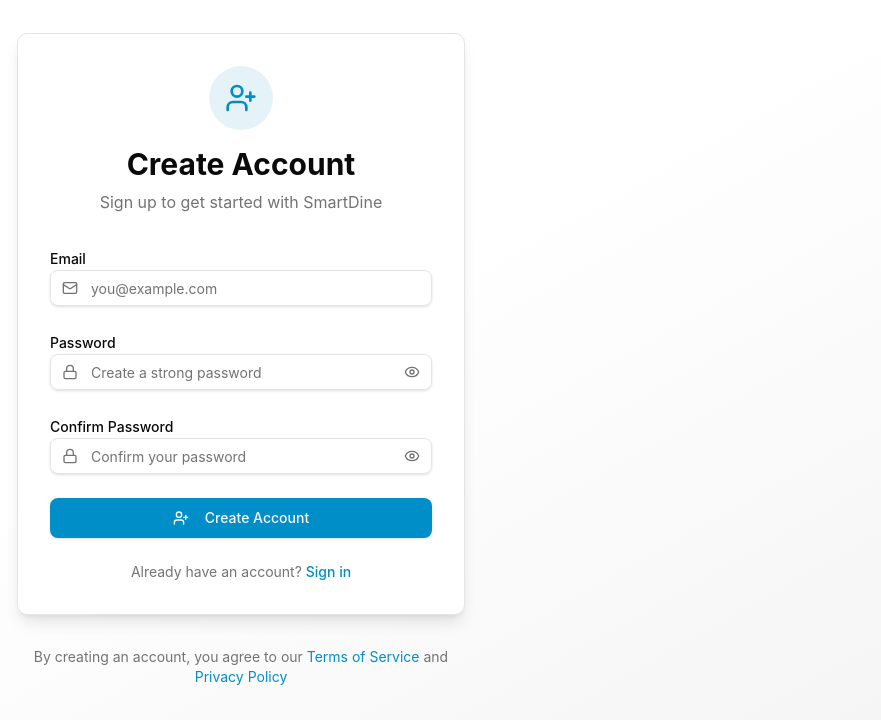
Test: Register Page Integration › should display password strength meter when typing password
Type "Test123!" into the password field with placeholder "Create a strong password" at (241, 372), box [50,354,432,390]
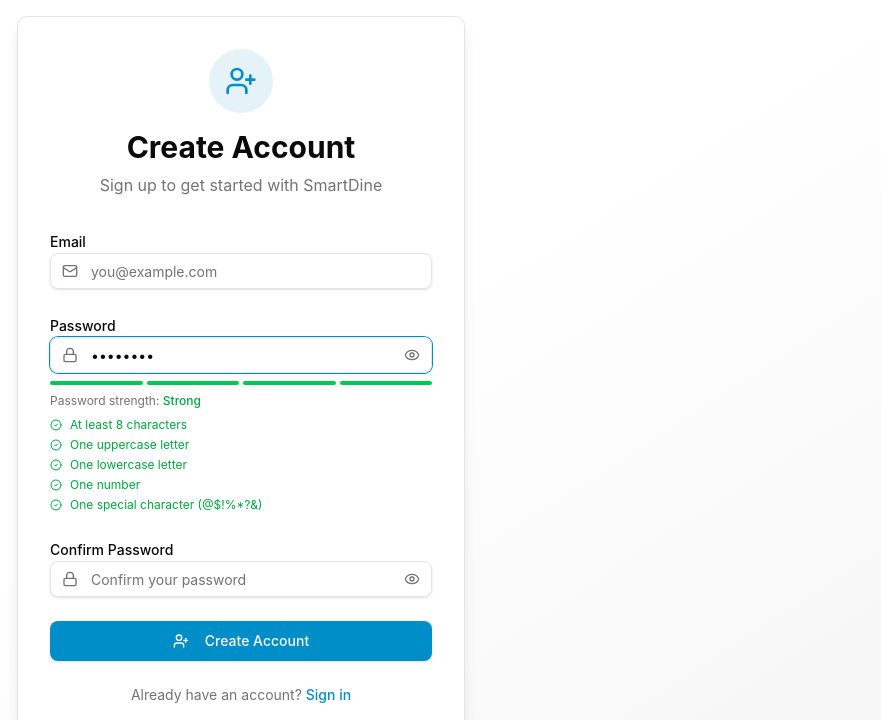
Check: the text "Password strength: Strong" is shown, box [50,393,201,408]
